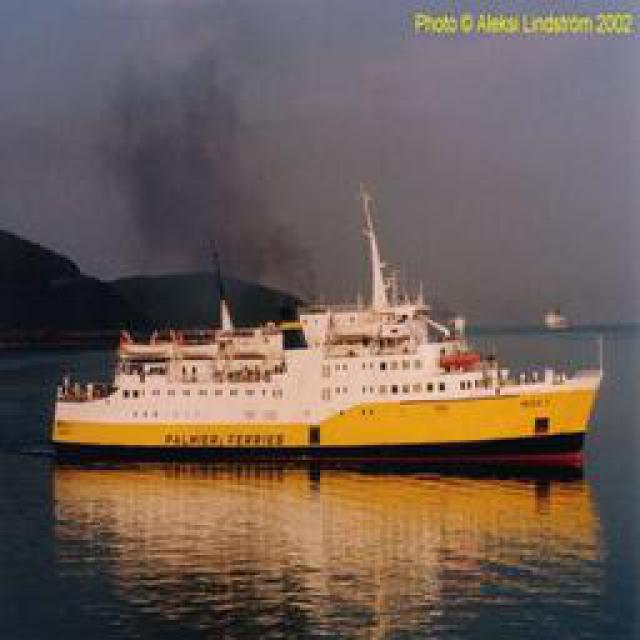Ship: (44, 192, 607, 462)
